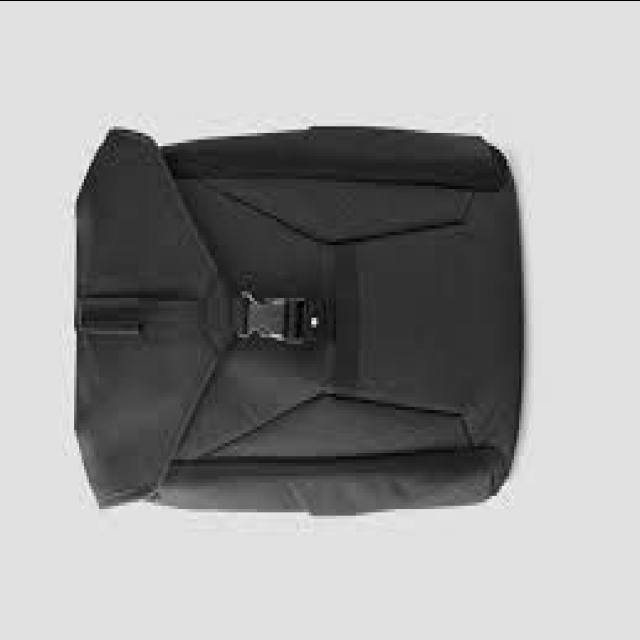backpack: (73, 127, 523, 519)
